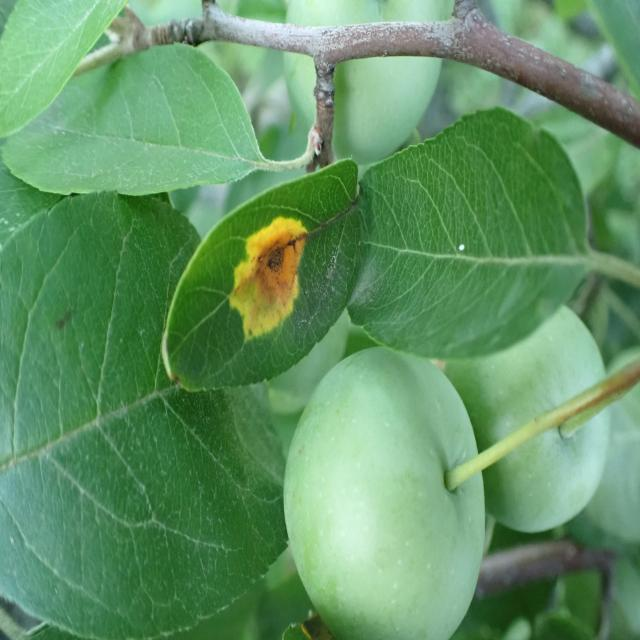Rust: (230, 207, 306, 341)
